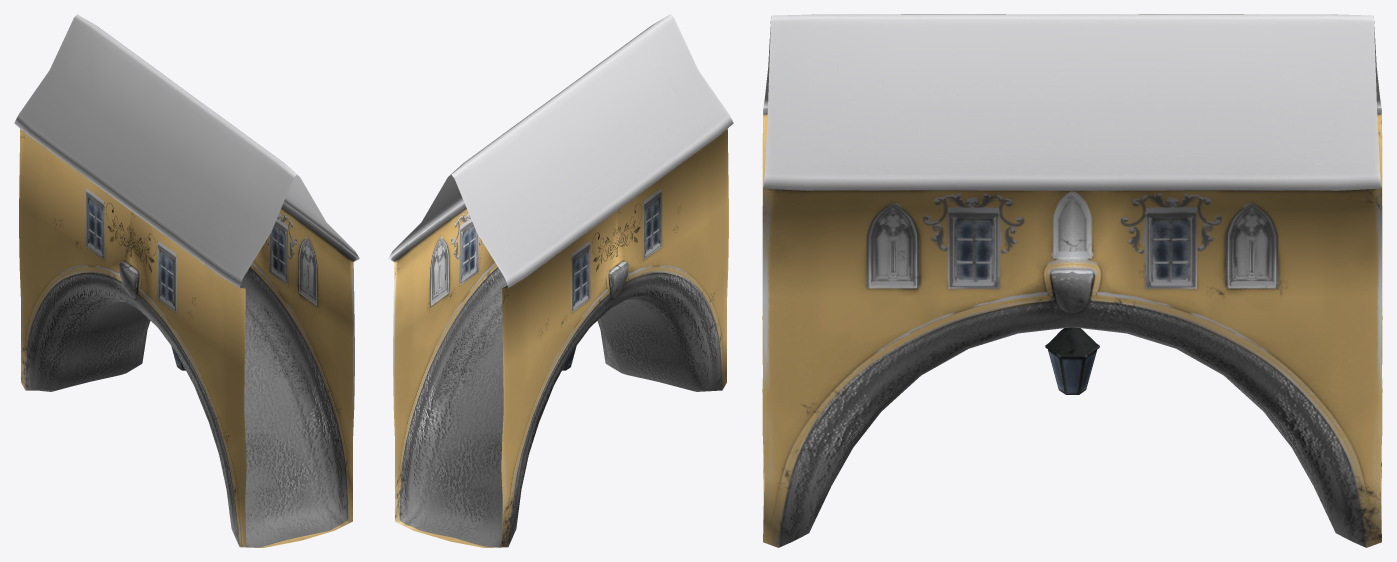
File: Arch-2.FBX
3 renders of one model, left to right at view 1: azimuth 30°, elevation 25°; view 2: azimuth 150°, elevation 25°; view 3: azimuth 270°, elevation 25°, orthographic. The views are drawn at different scales.
Visible parts, largest first — view 1: Arch-2; view 2: Arch-2; view 3: Arch-2.
Part boxes in pixels (x1,y1,x2,y2): Arch-2: (14,14,359,547); Arch-2: (388,14,733,547); Arch-2: (762,14,1382,547).
Size of the model in its own units: 85.45 by 240 by 267.
Materials: 1 (1 with a texture image).
